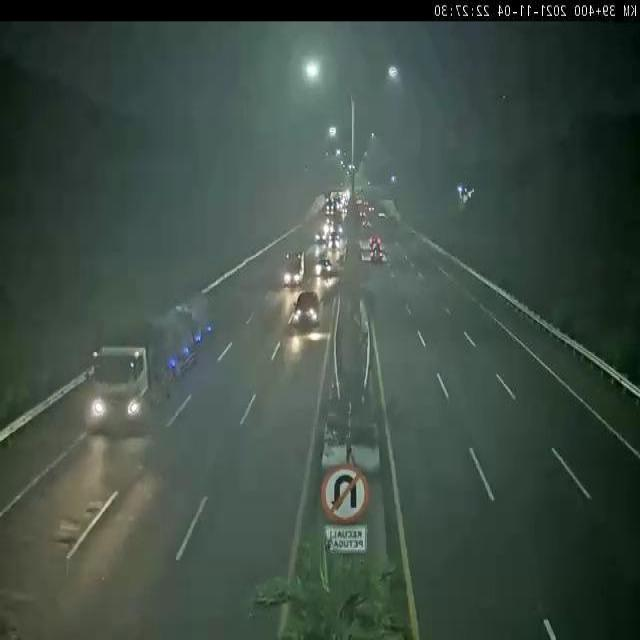Car: (288, 292, 330, 337), (310, 256, 339, 283)
Truck: (50, 273, 235, 457), (279, 247, 310, 292)
